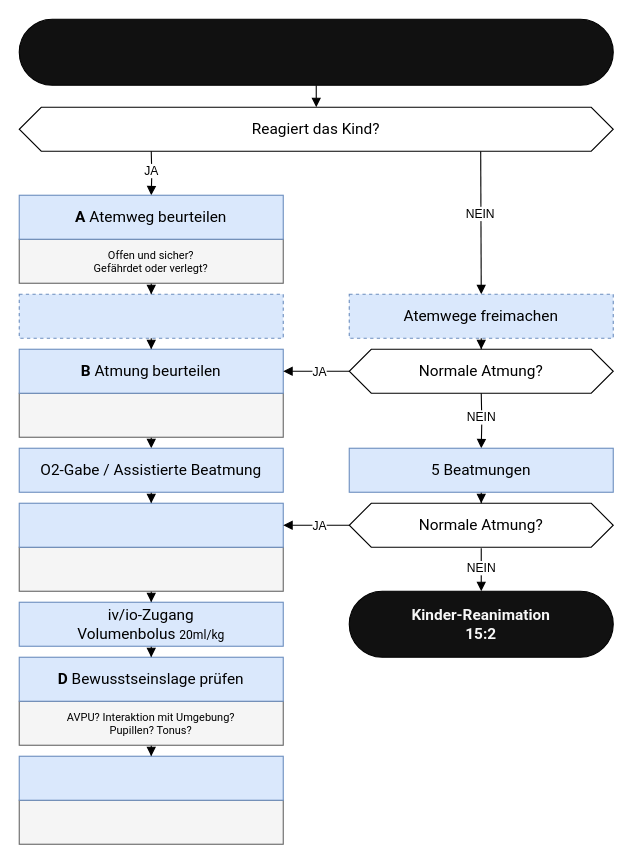
Some shapes in this 633 by 864 pixel diagram are drawn without their labels. The shapes that lost their labels are listed below. From the top down, each one's centre as x and y in pixels, then its label:
At (x=315, y=51): "Erkennen des kritisch kranken Kindes".
At (x=150, y=315): "Atemwege stabilisieren".
At (x=150, y=414): "Atemfrequenz, Atemarbeit? Atemzugvolumen, Oxygenierung?".
At (x=150, y=524): "C Kreislauf beurteilen".
At (x=150, y=568): "Herzfrequenz, Pulsqualität? Perfusion (Rekap), Vorlast (Halsvenen)?".
At (x=150, y=777): "E Exposure".
At (x=150, y=821): "Temperatur? Verletzungen? Umgebung?".
